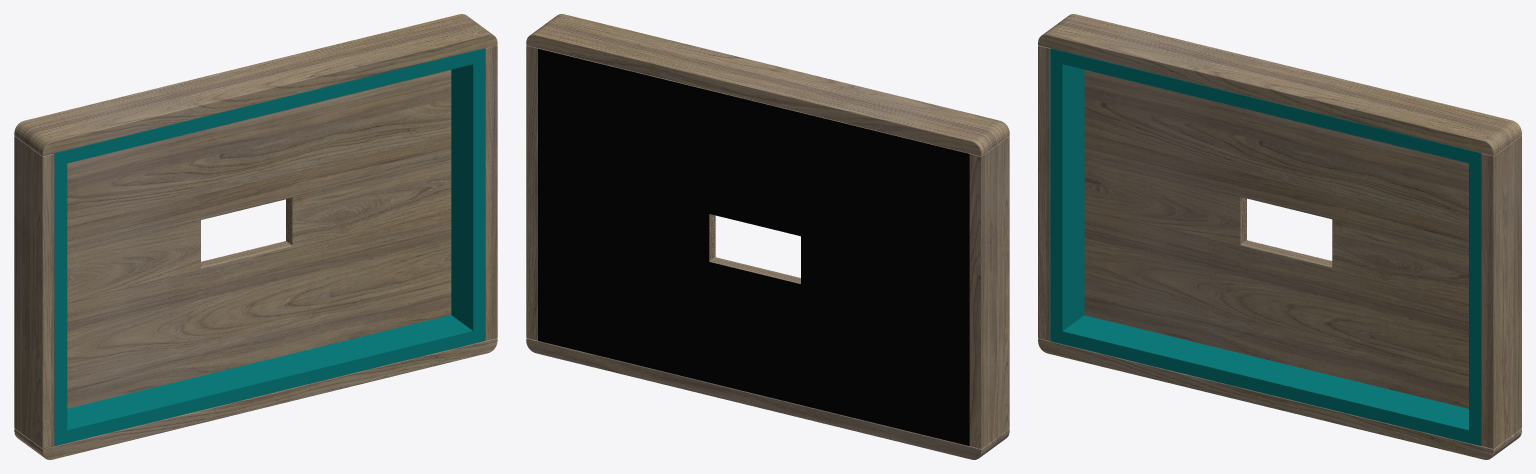
Rendered from t.vpanel.glb.
The picture shows the model from 3 angles, left to right: view 1: azimuth 30°, elevation 25°; view 2: azimuth 150°, elevation 25°; view 3: azimuth 330°, elevation 25°; orthographic projection.
Visible parts, largest first — view 1: wood, color; view 2: black, wood; view 3: wood, color.
Boxes of the visible parts, <box> form: wood: <box>14,14,497,459</box>; color: <box>54,48,485,445</box>; black: <box>538,48,969,445</box>; wood: <box>526,14,1009,459</box>; wood: <box>1038,14,1521,459</box>; color: <box>1050,48,1481,445</box>.
Bounding box in the file's own units: 1.63 × 1.09 × 0.1775.
3 materials, 1 textured.
